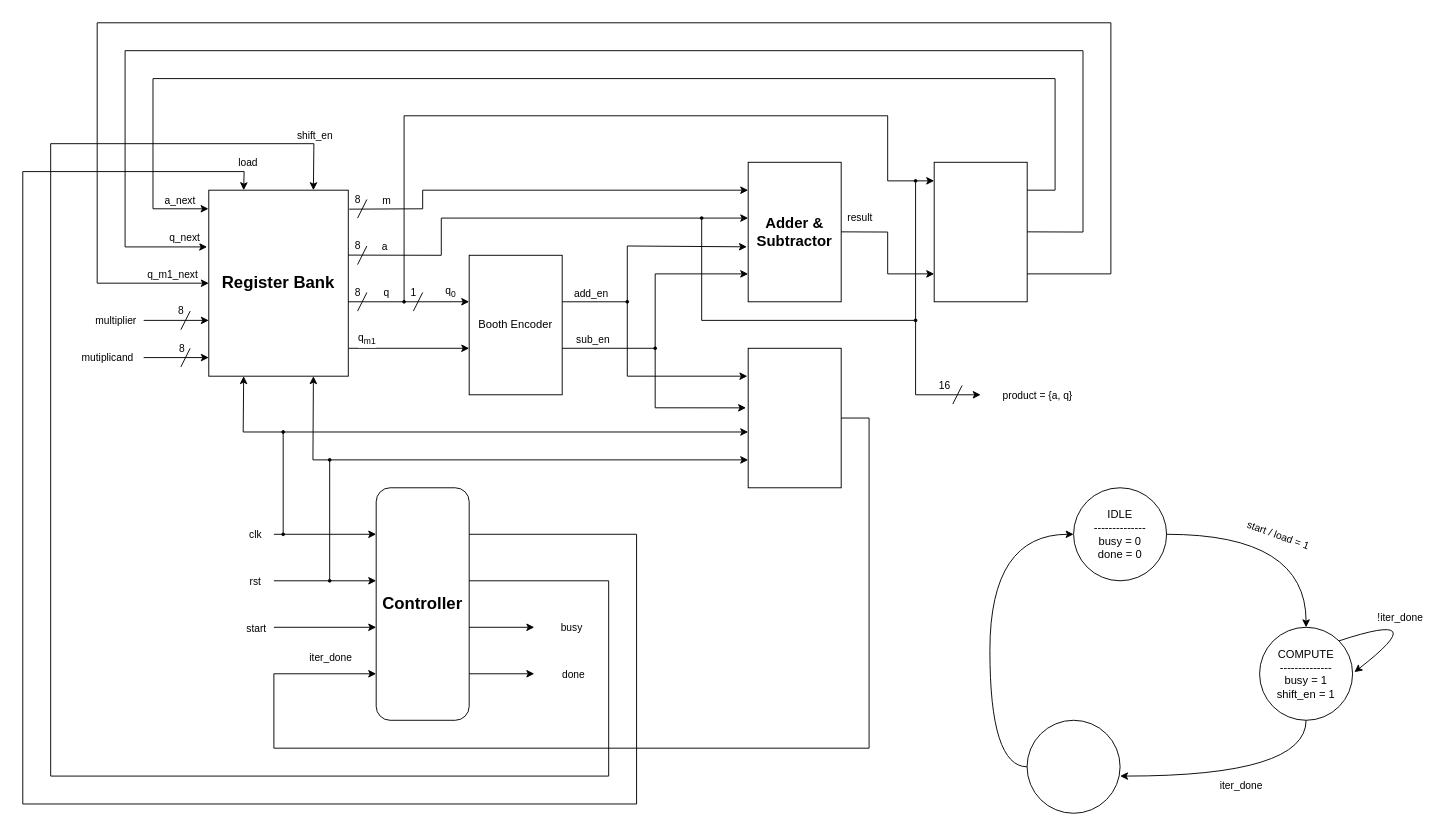
Image size: 1440x830. Some labels were removed from this diagram. The shapes that lost their labels are listed below. From the top down, each one's box as (x1, y1, x2, y2) in pixels, then its label:
(933, 161, 1027, 302): Shift
(747, 347, 841, 488): Counter
(1026, 719, 1120, 813): DONE -------------- done = 1
